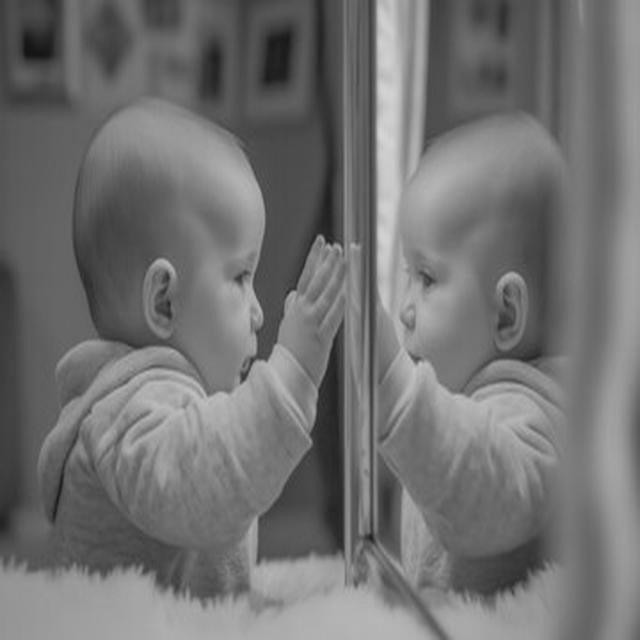Neutral: (177, 174, 266, 397)
